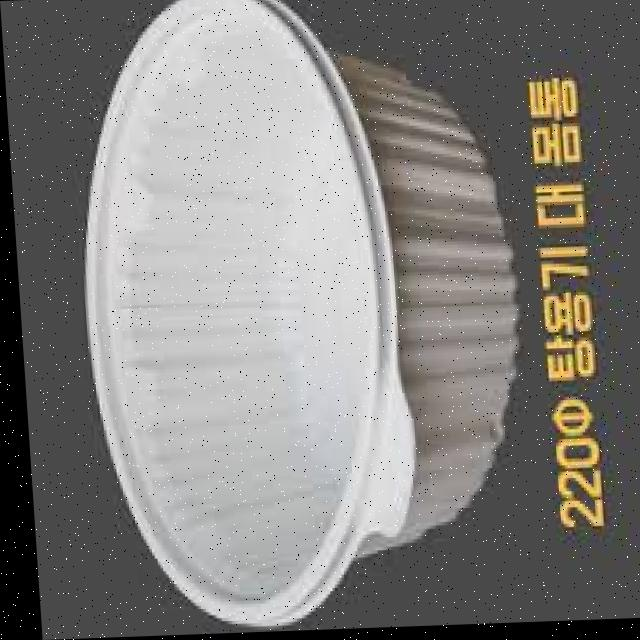disposable: (65, 0, 548, 625)
